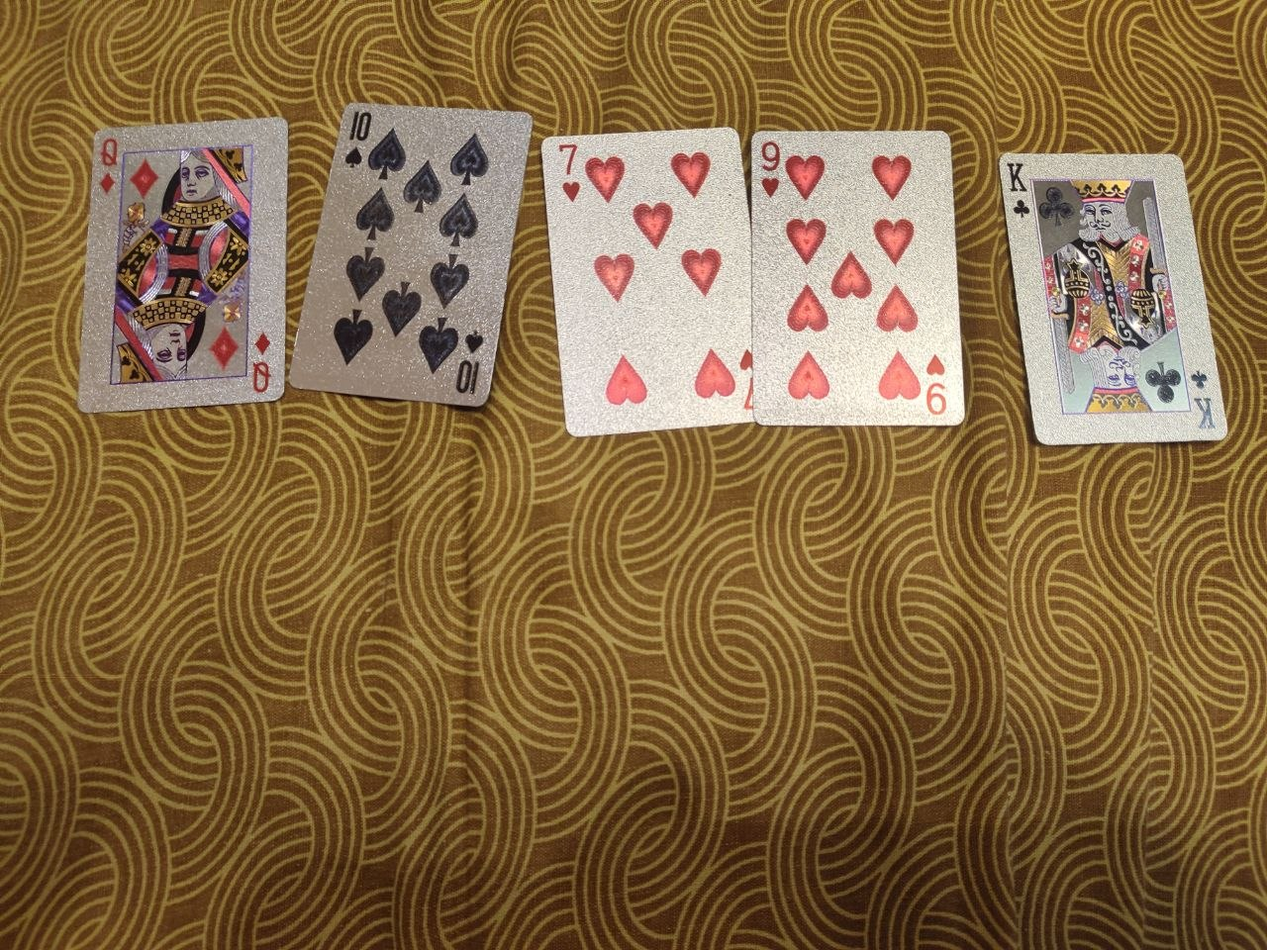10C: (290, 99, 533, 409)
7H: (539, 125, 756, 436)
9H: (749, 129, 967, 427)
KC: (998, 150, 1230, 446)
QD: (74, 112, 288, 412)
